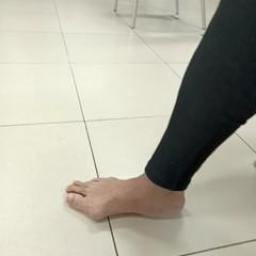Medial View -Right Foot-: (48, 145, 209, 236)
